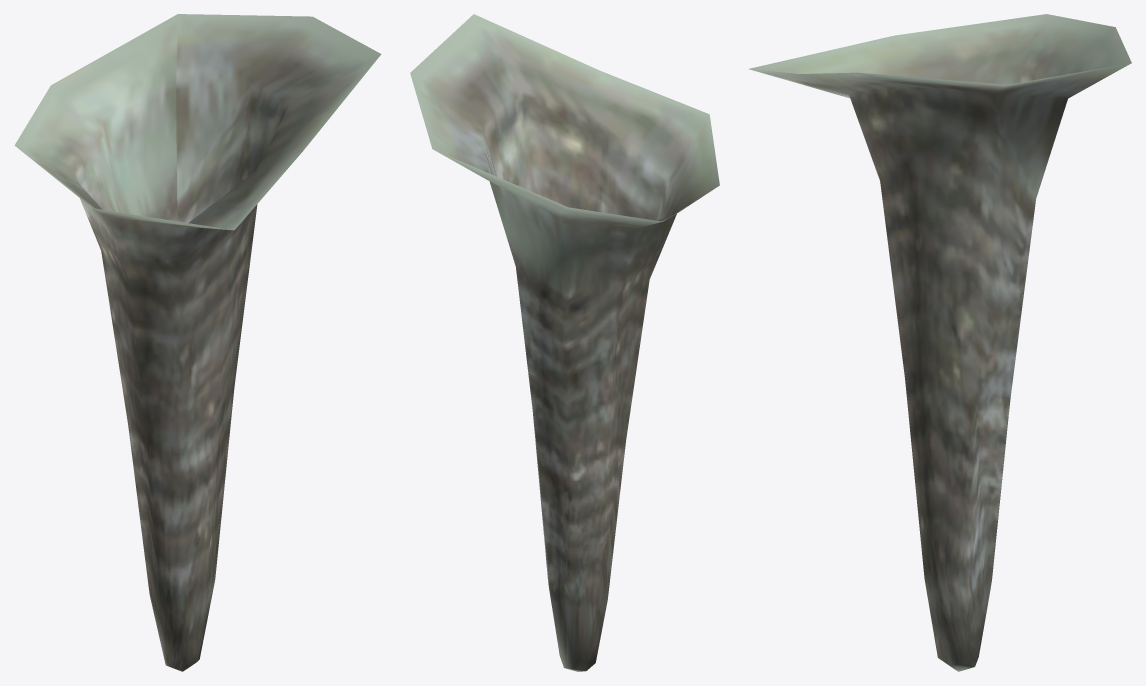
File: TROLLHOLE02_PS-MAINSTALAG36.fbx
The picture shows the model from 3 angles, left to right: view 1: azimuth 30°, elevation 25°; view 2: azimuth 150°, elevation 25°; view 3: azimuth 270°, elevation 25°; orthographic projection. The views are drawn at different scales.
Parts seen in each view (by area): view 1: TROLLHOLE02_PS-MAINSTALAG36; view 2: TROLLHOLE02_PS-MAINSTALAG36; view 3: TROLLHOLE02_PS-MAINSTALAG36.
Boxes of the visible parts, x1,y1,x2,y2 form: TROLLHOLE02_PS-MAINSTALAG36: [14, 14, 381, 671]; TROLLHOLE02_PS-MAINSTALAG36: [410, 14, 719, 671]; TROLLHOLE02_PS-MAINSTALAG36: [748, 14, 1131, 671].
Size of the model in its own units: 18677 by 38838 by 19797.
Materials: 1 (1 with a texture image).
